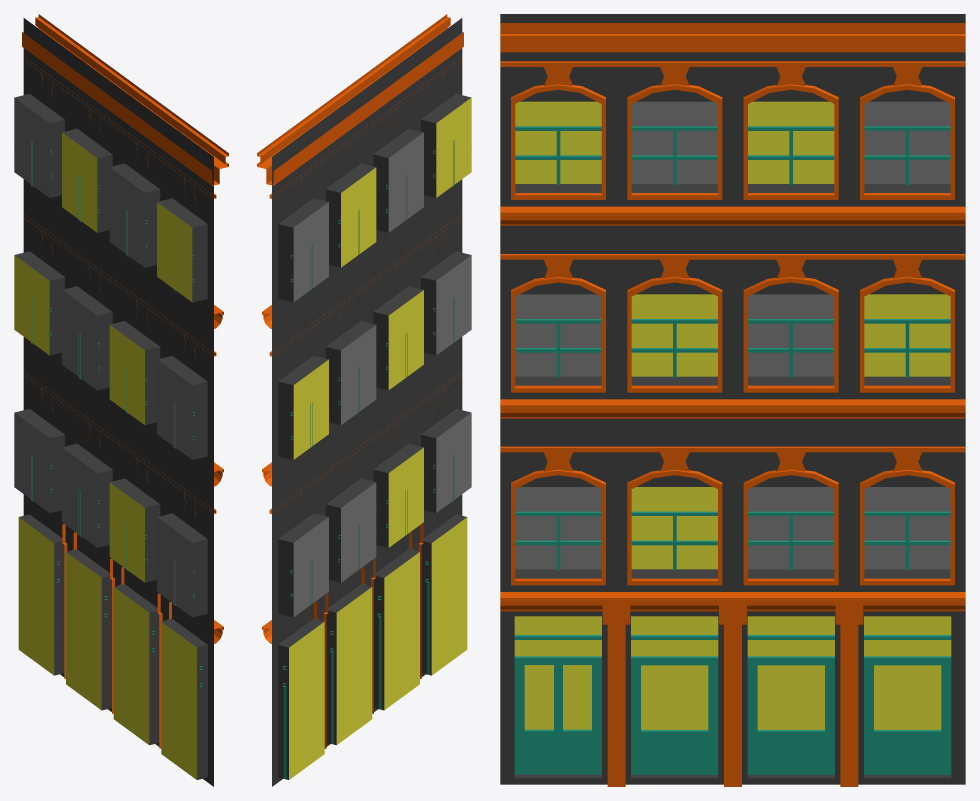
Rendered from SM_Build_01.fbx.
3 views of the same model, side by side, from view 1: azimuth 30°, elevation 25°; view 2: azimuth 150°, elevation 25°; view 3: azimuth 270°, elevation 25° (orthographic). The views are drawn at different scales.
Visible parts, largest first — view 1: Box013, Box058, Box046, Box048, Box047; view 2: Box013, Box058, Box048, Box046, Box047; view 3: Box013, Group002, Box058, Box016, Box015, Box014, Box051, Box055, Box056, Box057, Box046, Box048 (+20 smaller).
Part boxes in pixels (x1=…): Box013: x1=14, y1=18, x2=213, y2=786; Box058: x1=22, y1=14, x2=228, y2=185; Box046: x1=157, y1=593, x2=171, y2=748; Box048: x1=62, y1=524, x2=76, y2=678; Box047: x1=110, y1=559, x2=124, y2=713; Box013: x1=272, y1=18, x2=471, y2=786; Box058: x1=257, y1=14, x2=463, y2=185; Box048: x1=314, y1=593, x2=328, y2=748; Box046: x1=409, y1=524, x2=423, y2=678; Box047: x1=361, y1=559, x2=375, y2=713; Box013: x1=500, y1=14, x2=965, y2=784; Group002: x1=511, y1=84, x2=954, y2=585; Box058: x1=500, y1=23, x2=965, y2=52; Box016: x1=500, y1=206, x2=965, y2=225; Box015: x1=500, y1=399, x2=965, y2=418; Box014: x1=500, y1=592, x2=965, y2=611; Box051: x1=514, y1=661, x2=601, y2=774; Box055: x1=631, y1=661, x2=718, y2=774; Box056: x1=747, y1=661, x2=834, y2=774; Box057: x1=864, y1=661, x2=951, y2=774; Box046: x1=602, y1=601, x2=630, y2=786; Box048: x1=835, y1=601, x2=863, y2=786.
Size of the model in its own units: 106 by 2083 by 1140.
